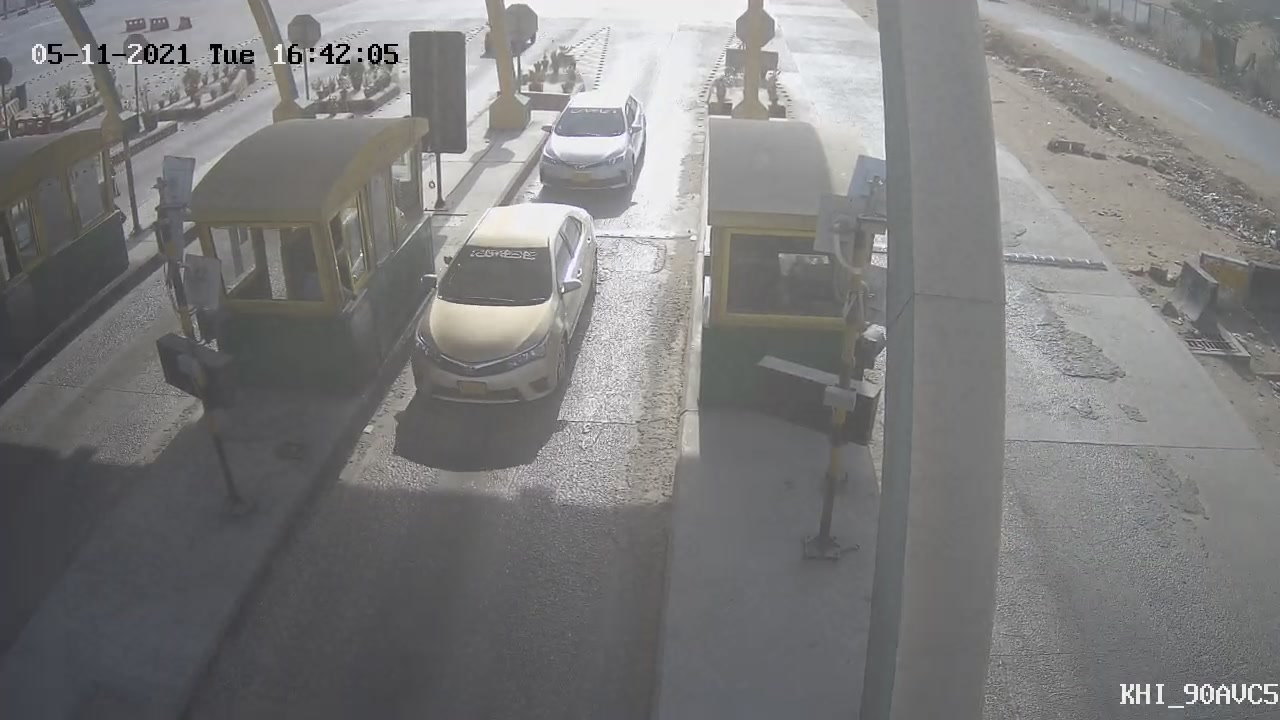F1: (391, 191, 620, 426), (527, 77, 660, 209)
